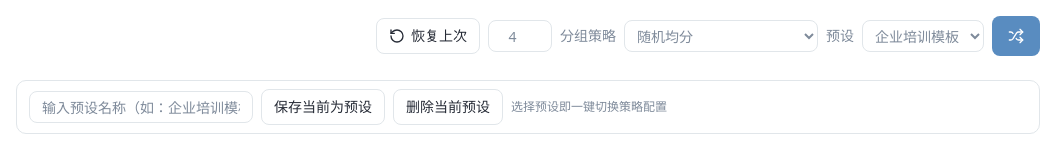
Scenario: GroupManager › group count input keeps minimum but has no upper cap
Later steps or results of the test are not shown.
Replace the text in the number field showing "4" with "1" at (520, 36), box [488,20,552,52]
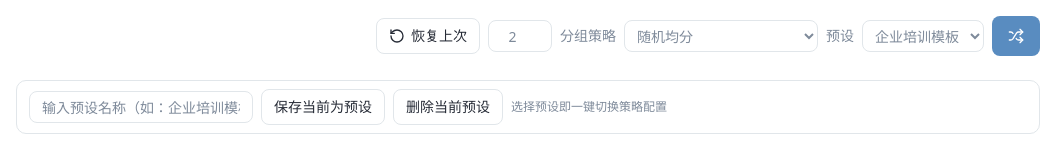
Expected: the number field showing "4" holds "2", [488,20,552,52]
